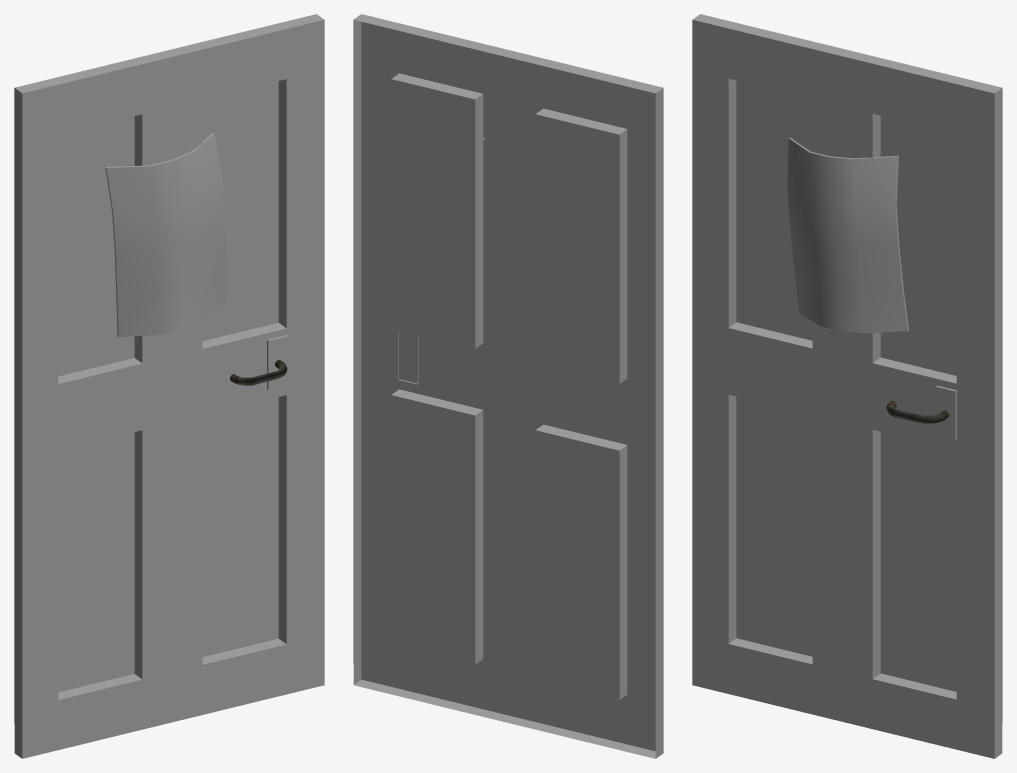
File: S_BathroomDoor.fbx
3 renders of one model, left to right at view 1: azimuth 30°, elevation 25°; view 2: azimuth 150°, elevation 25°; view 3: azimuth 330°, elevation 25°, orthographic.
Visible parts, largest first — view 1: S_BathroomDoor; view 2: S_BathroomDoor; view 3: S_BathroomDoor.
Boxes of the visible parts, left/top/right/bottom form: S_BathroomDoor: left=14, top=14, right=324, bottom=758; S_BathroomDoor: left=353, top=14, right=663, bottom=758; S_BathroomDoor: left=692, top=14, right=1002, bottom=758.
Size of the model in its own units: 3.61 by 7.59 by 0.4803.
